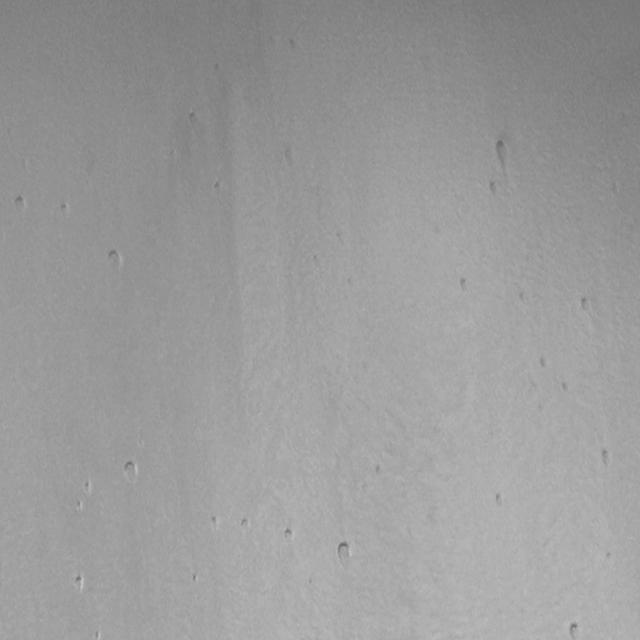pin holes: (489, 140, 512, 172), (333, 540, 356, 569), (104, 246, 126, 276), (183, 110, 204, 138), (595, 446, 616, 472), (120, 458, 140, 485), (576, 294, 598, 318), (278, 147, 299, 172), (10, 193, 29, 218), (566, 620, 588, 640), (486, 180, 506, 202), (70, 572, 86, 595), (458, 274, 474, 295), (283, 526, 299, 544), (537, 354, 553, 372), (494, 492, 508, 512), (372, 462, 387, 479), (558, 377, 572, 395), (58, 200, 71, 218), (239, 516, 252, 532), (213, 179, 225, 196), (208, 514, 220, 530), (72, 499, 84, 515), (84, 480, 95, 496), (190, 573, 201, 585), (92, 628, 104, 638)
